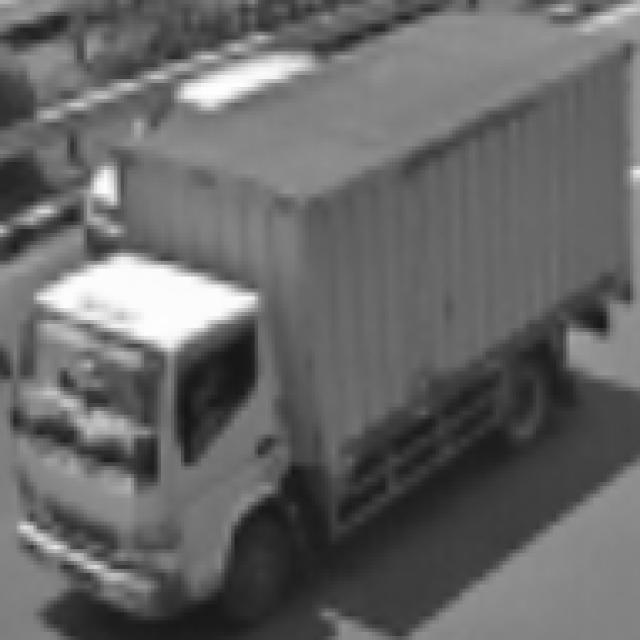truck: (1, 234, 316, 621)
